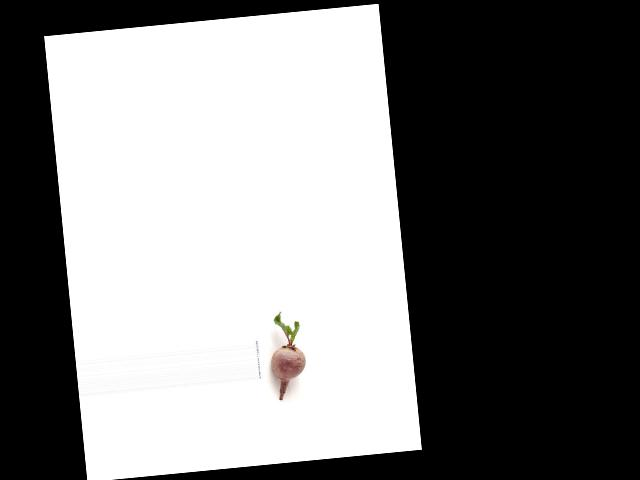beet: (266, 309, 308, 399)
